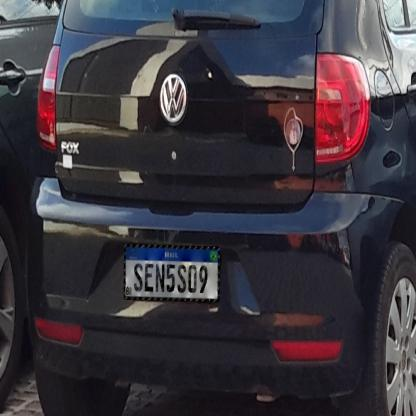PlacaM: (124, 244, 219, 302)
